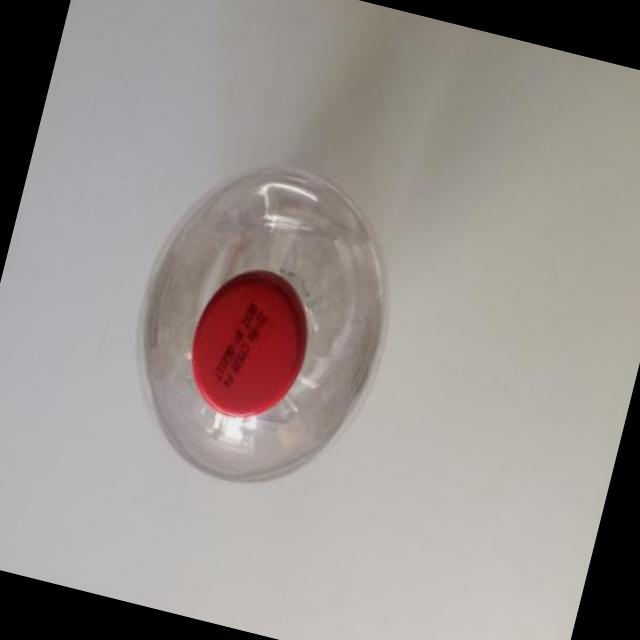Trash: (110, 155, 432, 507)
